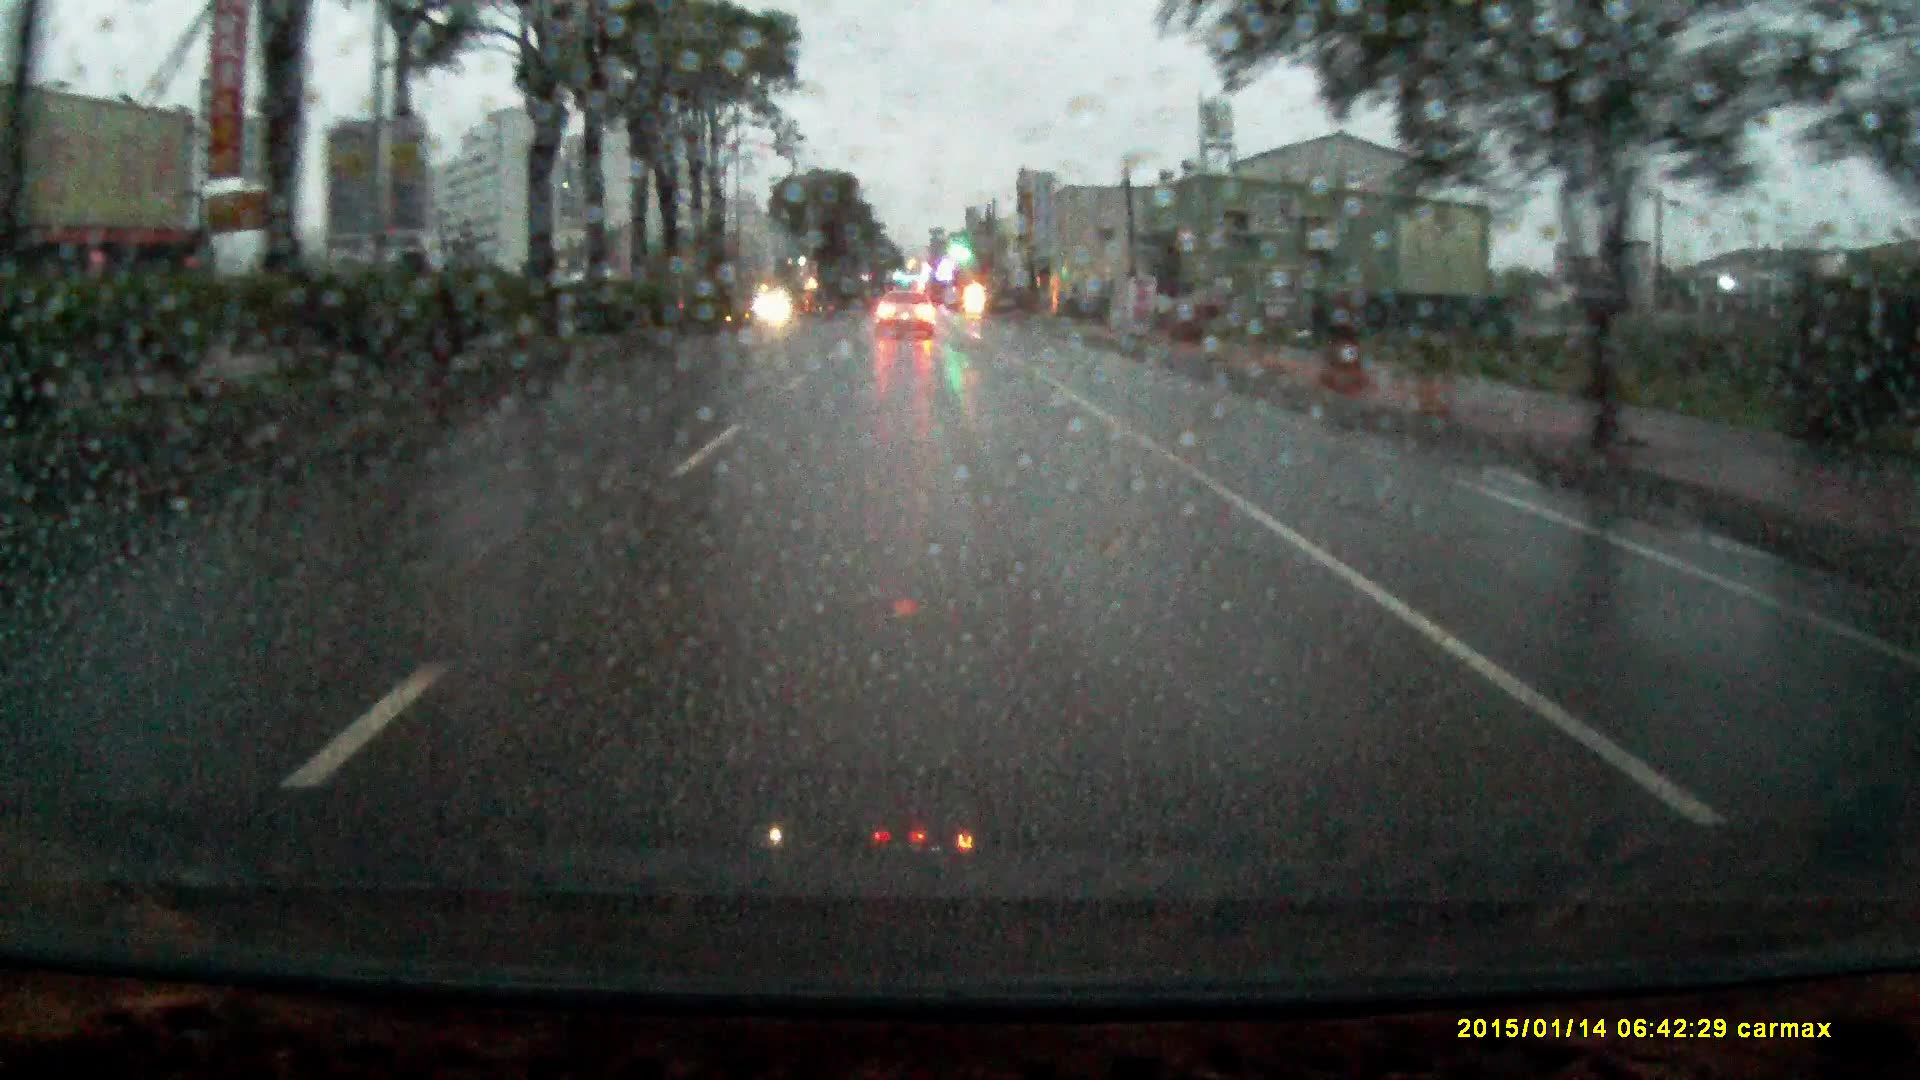vehicle: (876, 295, 936, 345)
